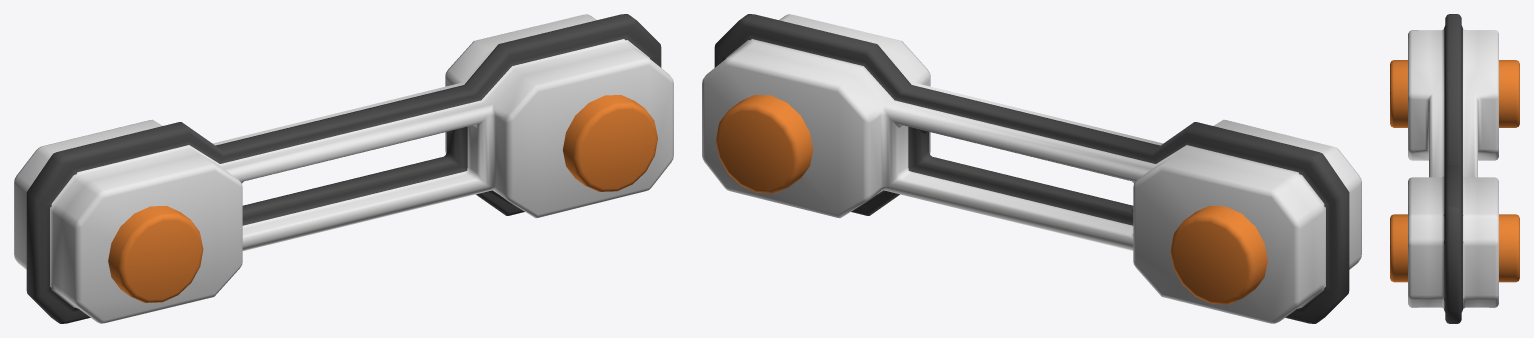
Rendered from Robot_Leg_03.fbx.
3 views of the same model, side by side, from view 1: azimuth 30°, elevation 25°; view 2: azimuth 150°, elevation 25°; view 3: azimuth 270°, elevation 25° (orthographic). The views are drawn at different scales.
Parts seen in each view (by area): view 1: Robot_Leg_03; view 2: Robot_Leg_03; view 3: Robot_Leg_03.
Part boxes in pixels (left/top/right/bottom): Robot_Leg_03: left=14, top=14, right=673, bottom=323; Robot_Leg_03: left=702, top=14, right=1361, bottom=323; Robot_Leg_03: left=1390, top=14, right=1519, bottom=323.
Size of the model in its own units: 1.5 by 0.3834 by 0.3875.
